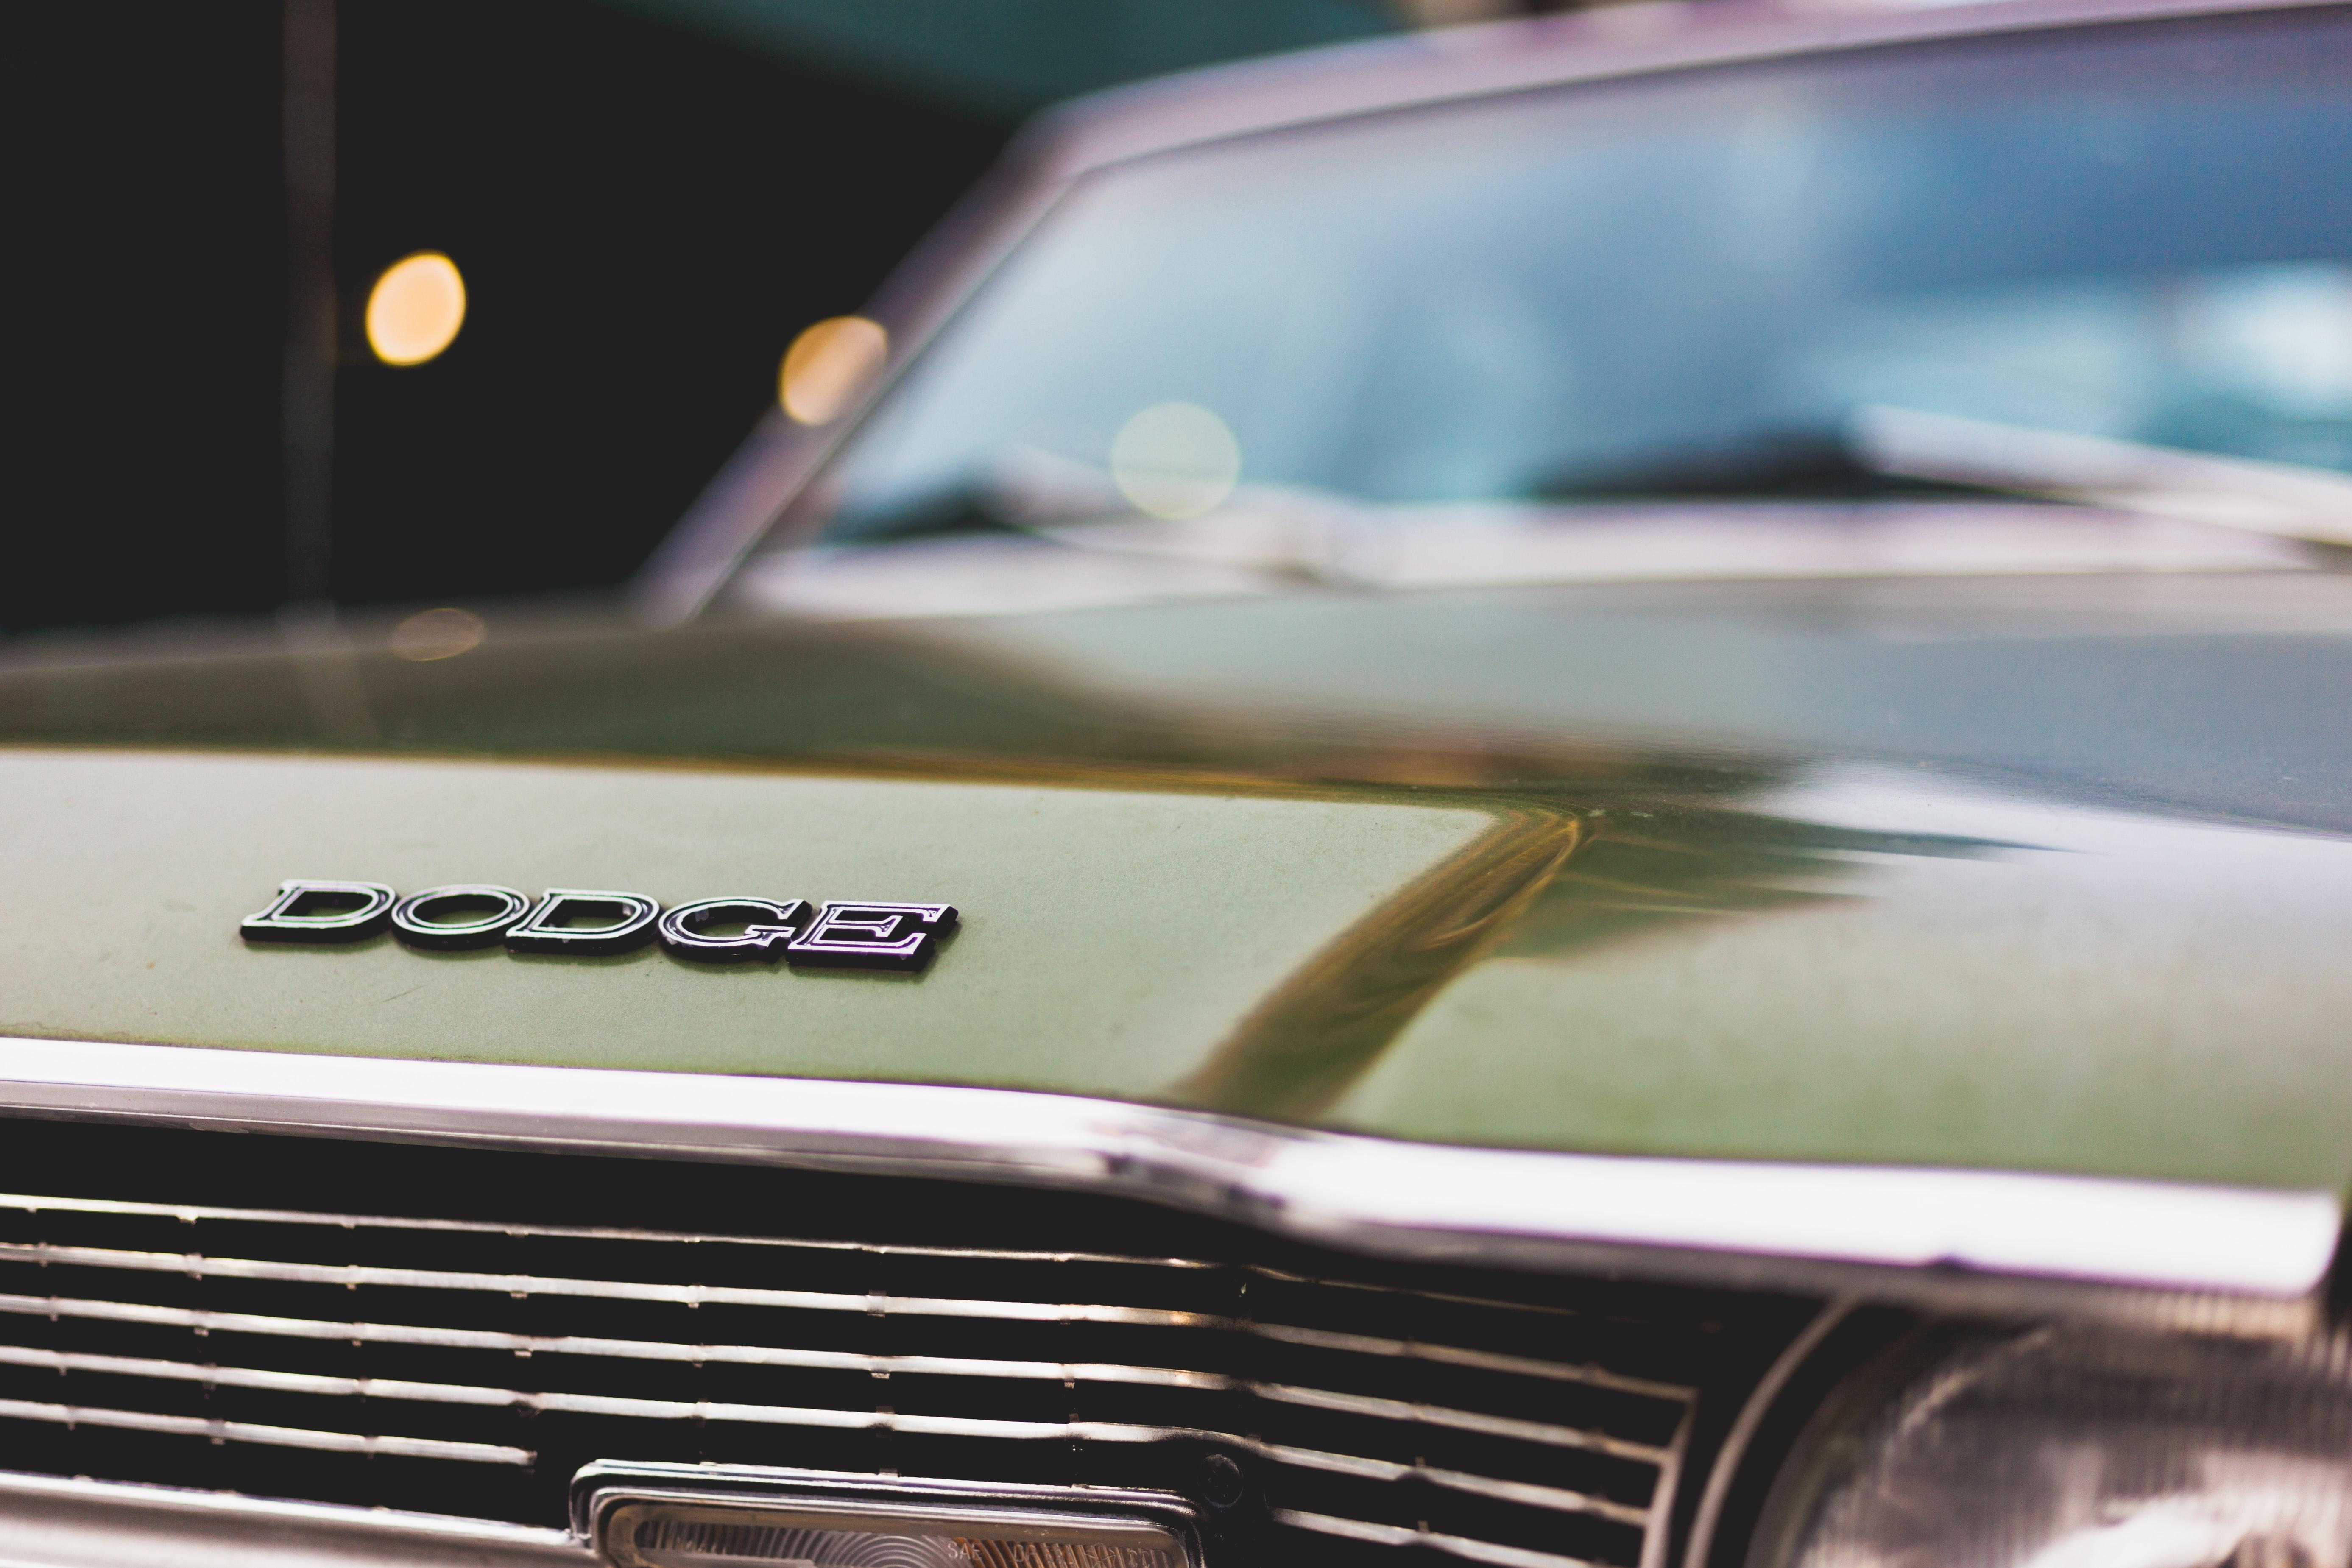dodge: (208, 816, 984, 1019)
